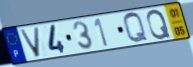1: (93, 17, 110, 48)
3: (72, 20, 94, 52)
4: (47, 23, 68, 56)
Q: (123, 12, 151, 45), (146, 8, 172, 41)
V: (18, 26, 42, 59)
